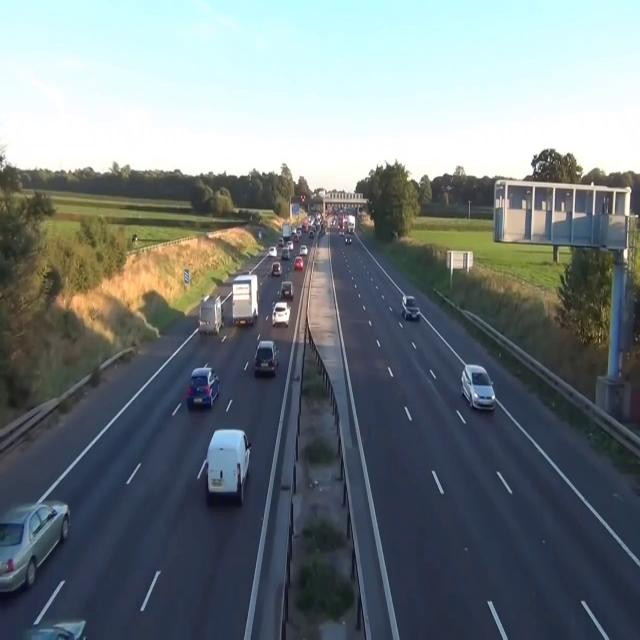belum terisi: (3, 477, 75, 591), (203, 422, 254, 507), (455, 351, 504, 422), (224, 271, 266, 326), (186, 360, 223, 416), (249, 337, 285, 382), (194, 289, 227, 335), (395, 286, 427, 330), (270, 298, 293, 332)
